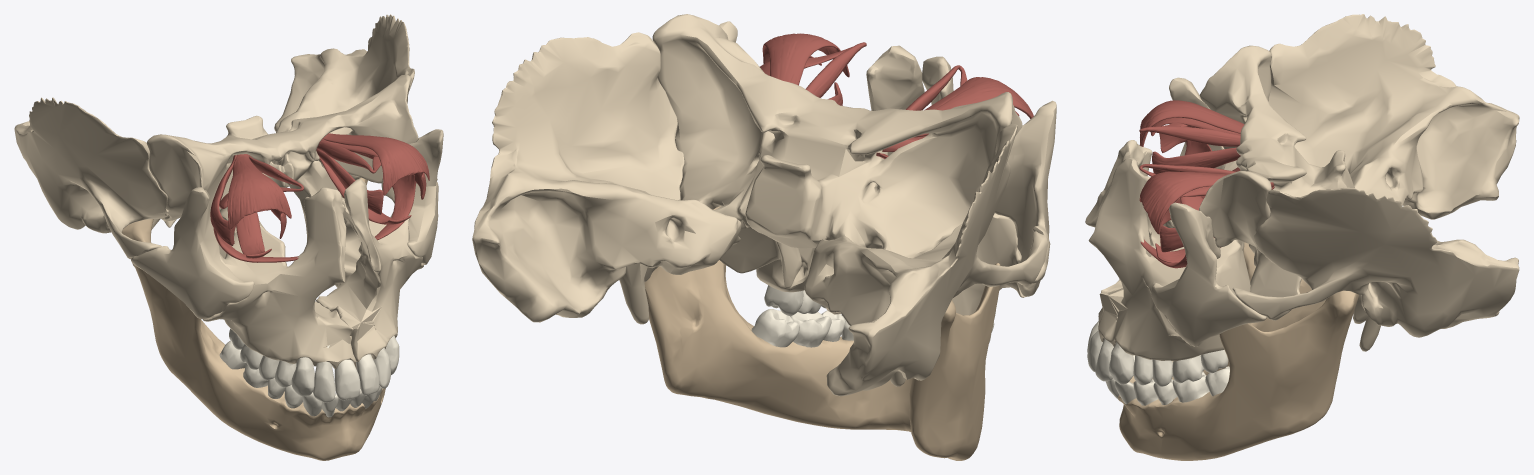
Rendered from maxillofacial-jaw.glb.
The picture shows the model from 3 angles, left to right: view 1: azimuth 30°, elevation 25°; view 2: azimuth 150°, elevation 25°; view 3: azimuth 270°, elevation 25°; orthographic projection. The views are drawn at different scales.
Visible parts, largest first — view 1: FJ3269 · bone organ; FJ3281 · bone organ; FJ3287 · bone orga, FJ3289 · bone organ, FJ1294 · muscle organ; FJ1295 · muscle organ; FJ1304 · muscl, FJ1254 · tooth; FJ1255 · tooth; FJ1256 · tooth; FJ1257 · too; view 2: FJ3269 · bone organ; FJ3281 · bone organ; FJ3287 · bone orga, FJ3289 · bone organ, FJ1294 · muscle organ; FJ1295 · muscle organ; FJ1304 · muscl, FJ1254 · tooth; FJ1255 · tooth; FJ1256 · tooth; FJ1257 · too; view 3: FJ3269 · bone organ; FJ3281 · bone organ; FJ3287 · bone orga, FJ3289 · bone organ, FJ1294 · muscle organ; FJ1295 · muscle organ; FJ1304 · muscl, FJ1254 · tooth; FJ1255 · tooth; FJ1256 · tooth; FJ1257 · too.
Part boxes in pixels (<box>): FJ3269 · bone organ; FJ3281 · bone organ; FJ3287 · bone orga: <box>14,14,443,368</box>; FJ3289 · bone organ: <box>122,177,385,460</box>; FJ1294 · muscle organ; FJ1295 · muscle organ; FJ1304 · muscl: <box>210,133,429,262</box>; FJ1254 · tooth; FJ1255 · tooth; FJ1256 · tooth; FJ1257 · too: <box>219,324,399,417</box>; FJ3269 · bone organ; FJ3281 · bone organ; FJ3287 · bone orga: <box>472,14,1056,396</box>; FJ3289 · bone organ: <box>644,206,1000,460</box>; FJ1294 · muscle organ; FJ1295 · muscle organ; FJ1304 · muscl: <box>760,33,1033,158</box>; FJ1254 · tooth; FJ1255 · tooth; FJ1256 · tooth; FJ1257 · too: <box>751,285,995,347</box>; FJ3269 · bone organ; FJ3281 · bone organ; FJ3287 · bone orga: <box>1085,14,1519,361</box>; FJ3289 · bone organ: <box>1118,242,1358,460</box>; FJ1294 · muscle organ; FJ1295 · muscle organ; FJ1304 · muscl: <box>1139,100,1274,268</box>; FJ1254 · tooth; FJ1255 · tooth; FJ1256 · tooth; FJ1257 · too: <box>1087,314,1229,405</box>.
Bounding box in the file's own units: 3.3 × 2.92 × 3.35.
